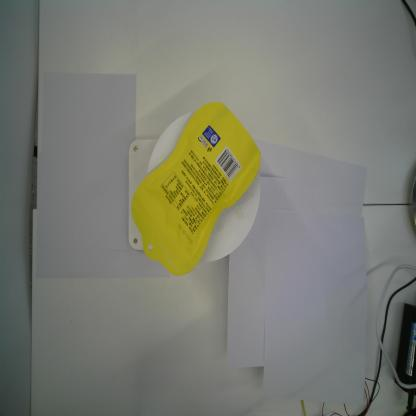Dried Fruit: (131, 100, 261, 278)
